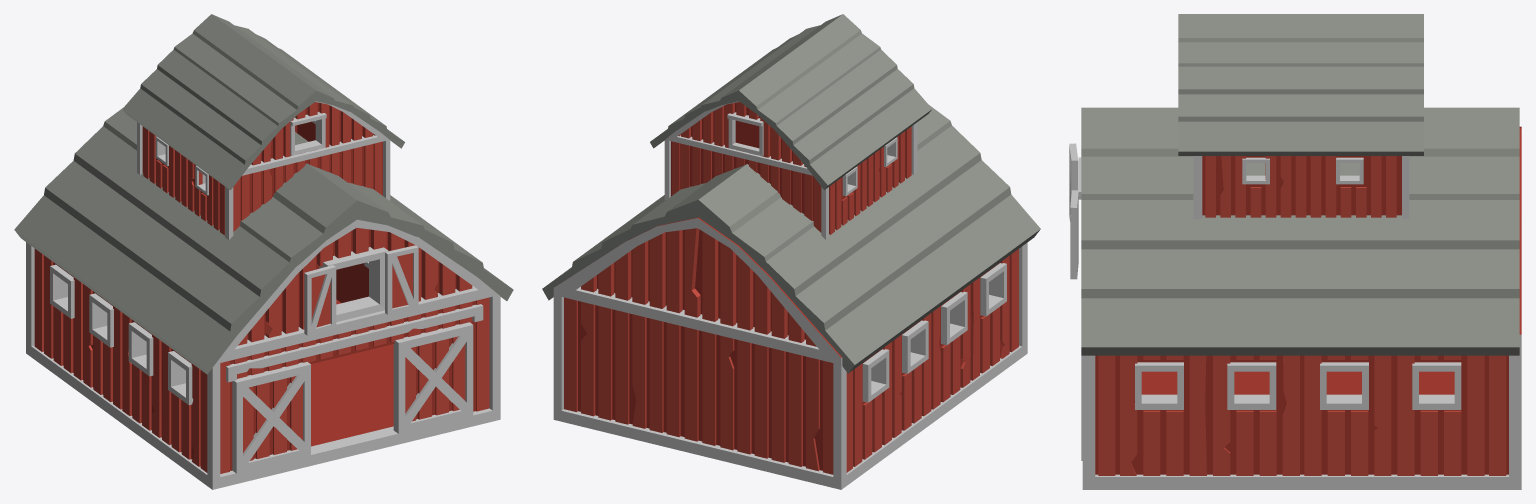
File: barn.glb
3 renders of one model, left to right at view 1: azimuth 30°, elevation 25°; view 2: azimuth 150°, elevation 25°; view 3: azimuth 270°, elevation 25°, orthographic. The views are drawn at different scales.
Parts seen in each view (by area): view 1: BigBarn, BigBarn_Door, BigBarn_Door2, BigBarn_Window, BigBarn_Window2; view 2: BigBarn; view 3: BigBarn, BigBarn_Window, BigBarn_Window2.
Part boxes in pixels (x1,y1,x2,y2): BigBarn: (14,14,513,489); BigBarn_Door: (393,322,473,433); BigBarn_Door2: (232,362,310,473); BigBarn_Window: (385,245,418,314); BigBarn_Window2: (304,265,336,335); BigBarn: (542,14,1040,489); BigBarn: (1078,14,1521,489); BigBarn_Window: (1070,190,1078,279); BigBarn_Window2: (1069,143,1078,221).
Bounding box in the file's own units: 7.73 × 7.89 × 8.22.
